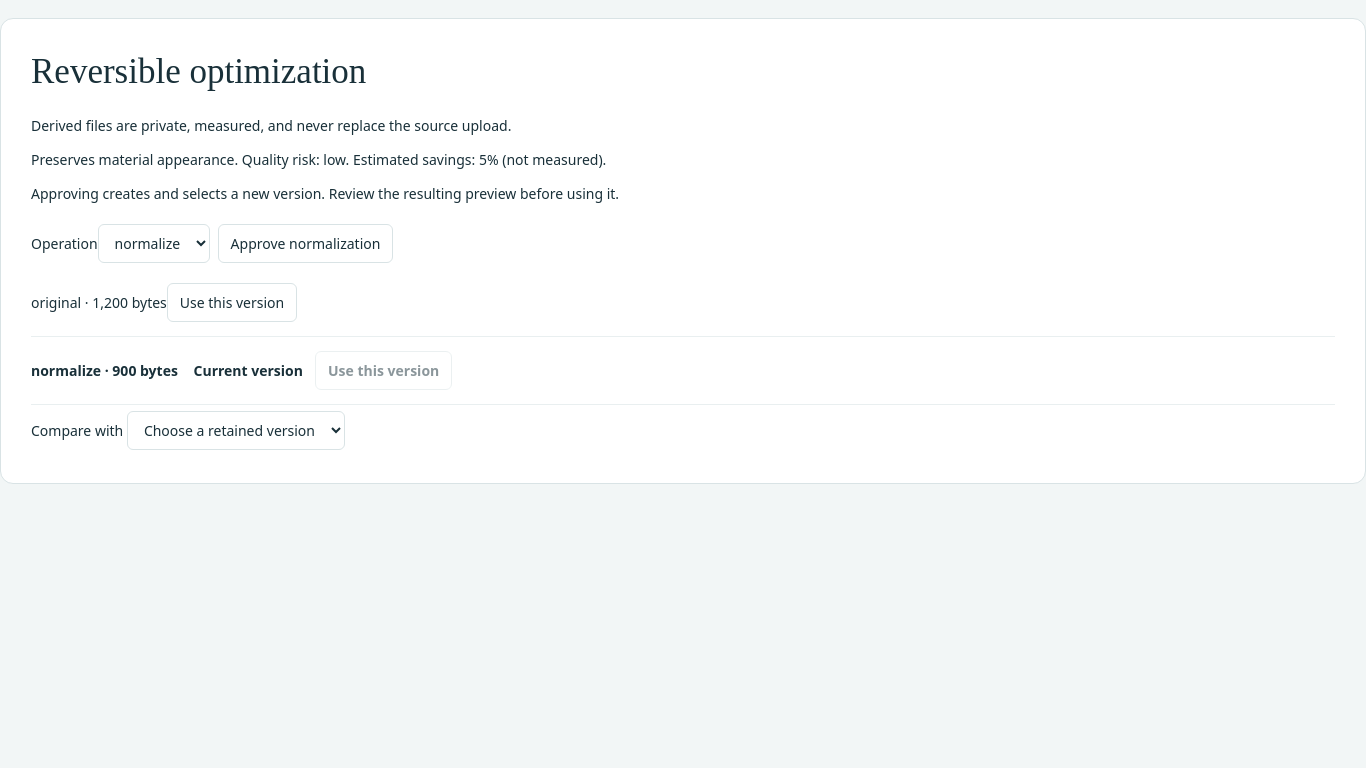
Test: recovers controls after network revert failure without claiming success
Click the button "Use this version" in the row of "original": point(232, 302) [167, 283, 297, 322]
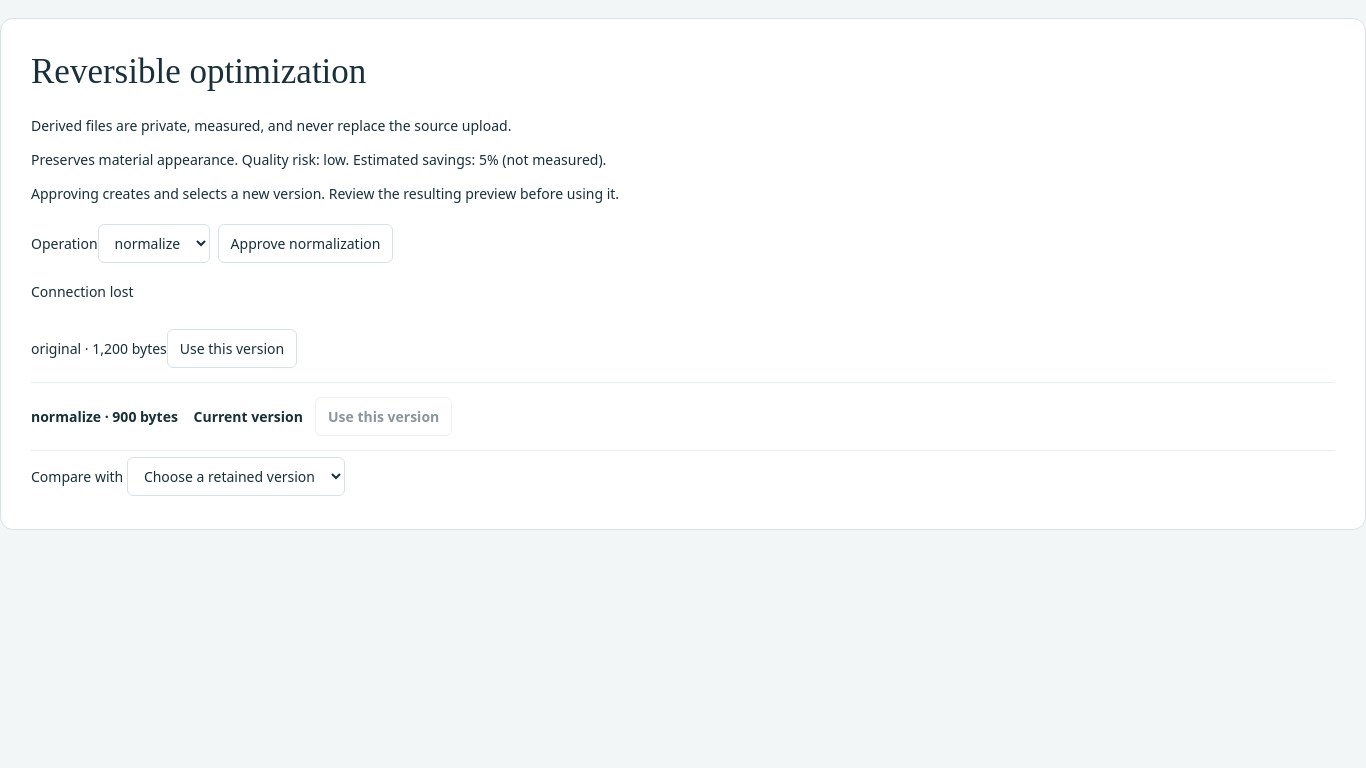
Expected: the button "Approve normalization" is enabled, [218, 224, 393, 263]
Expected: the message reads "Connection lost", [31, 282, 134, 301]
